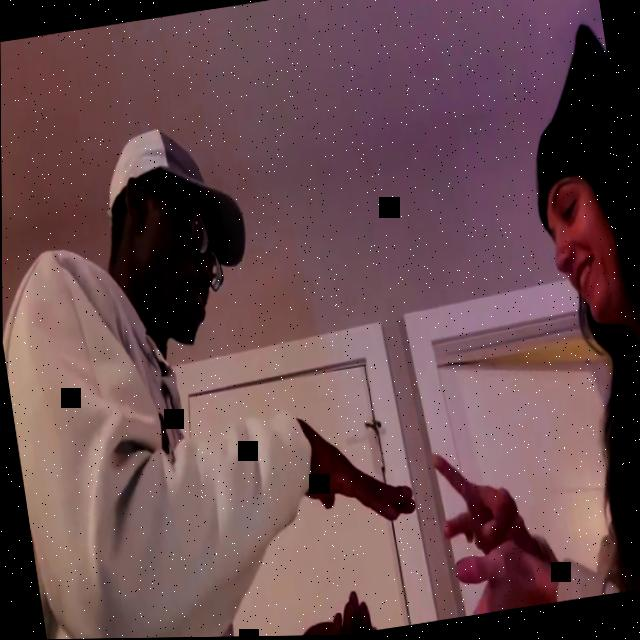Paper: (296, 403, 417, 539)
Scissors: (429, 446, 525, 561)
